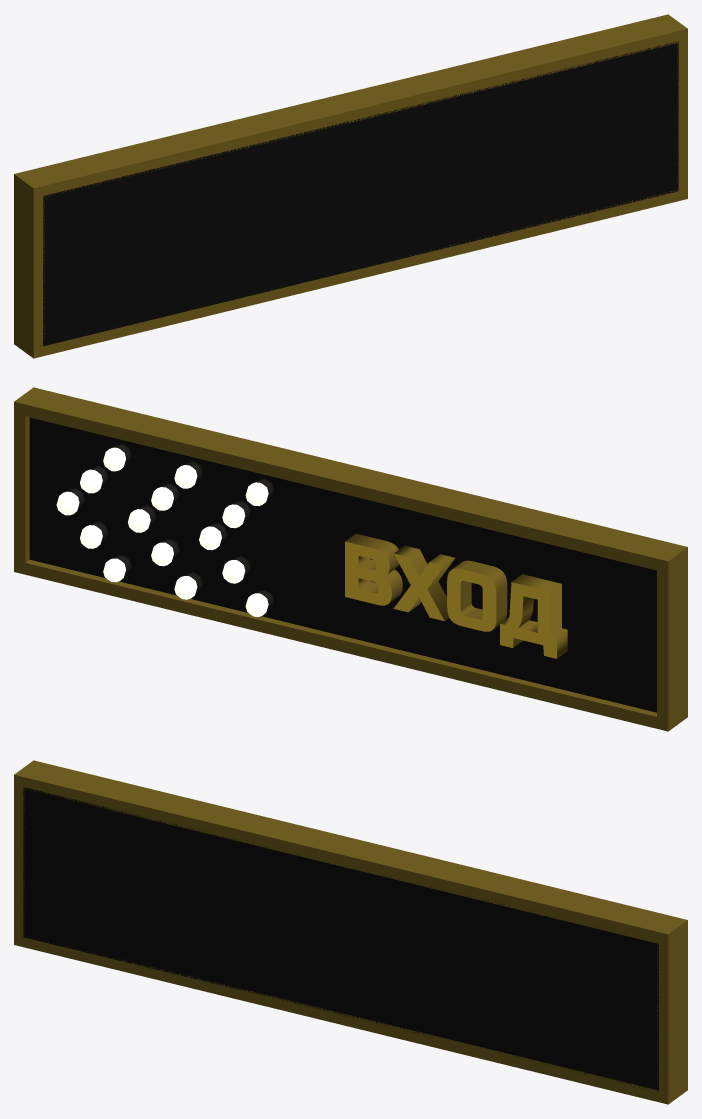
File: arrow_entrance_left.glb
The picture shows the model from 3 angles, top to bottom: view 1: azimuth 30°, elevation 25°; view 2: azimuth 150°, elevation 25°; view 3: azimuth 330°, elevation 25°; orthographic projection.
Visible parts, largest first — view 1: Sign; view 2: Sign, BulbsA, BulbsB; view 3: Sign.
Part boxes in pixels (box(x1,y1,x2,y2)): Sign: box(14, 14, 687, 358); Sign: box(14, 387, 687, 731); BulbsA: box(56, 447, 268, 616); BulbsB: box(128, 465, 197, 599); Sign: box(14, 760, 687, 1104).
Bounding box in the file's own units: 3.46 × 0.86 × 0.268.
2 materials, 1 textured.
